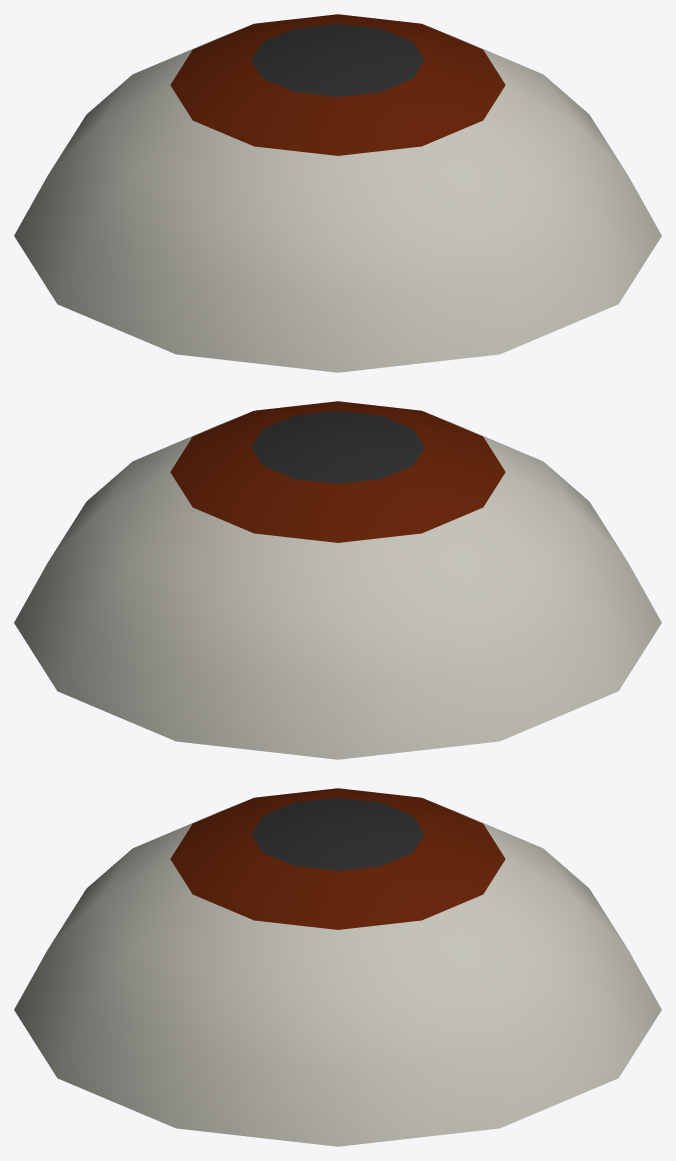
File: Eye.fbx
3 renders of one model, top to bottom at view 1: azimuth 30°, elevation 25°; view 2: azimuth 150°, elevation 25°; view 3: azimuth 270°, elevation 25°, orthographic.
Visible parts, largest first — view 1: Eye1; view 2: Eye1; view 3: Eye1.
Boxes of the visible parts, x1=… form: Eye1: x1=14, y1=14, x2=661, y2=372; Eye1: x1=14, y1=401, x2=661, y2=759; Eye1: x1=14, y1=788, x2=661, y2=1146.
Size of the model in its own units: 0.0329 by 0.0103 by 0.0329.
